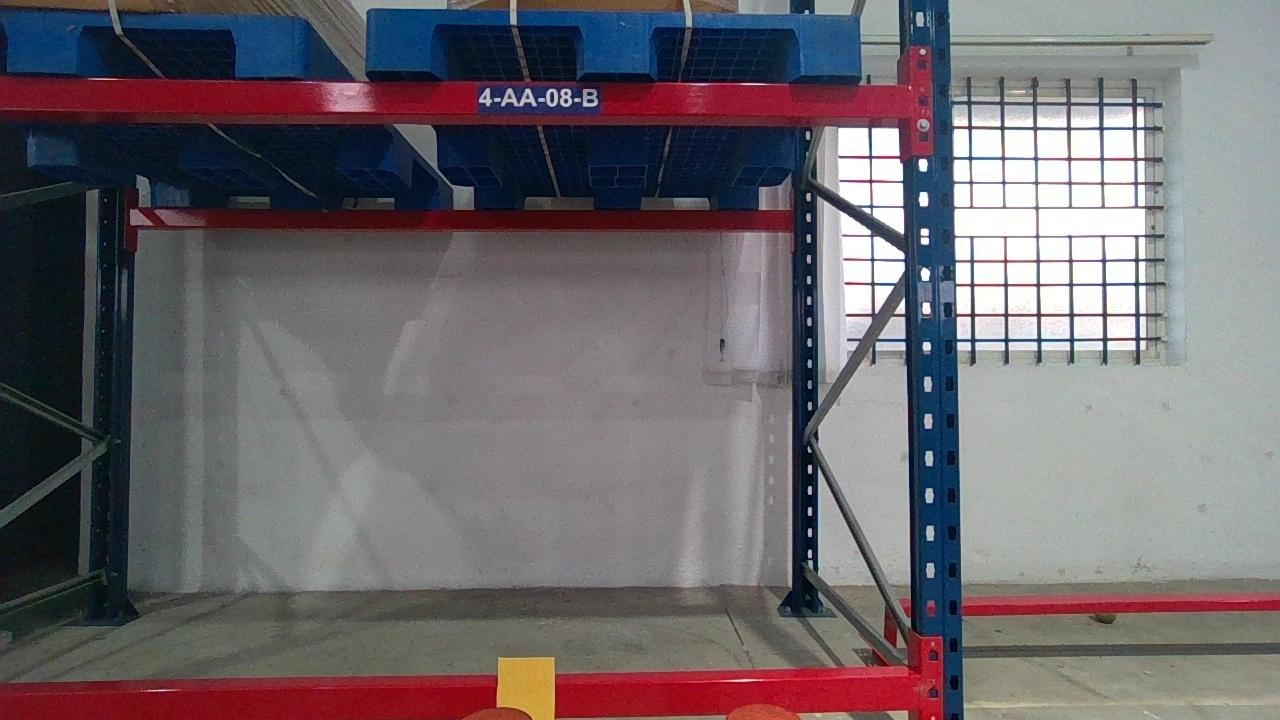h_rack: (2, 666, 917, 720), (5, 76, 916, 119)
orange_strip: (495, 656, 557, 718)
small_pallet: (365, 8, 863, 74), (0, 10, 305, 72)
